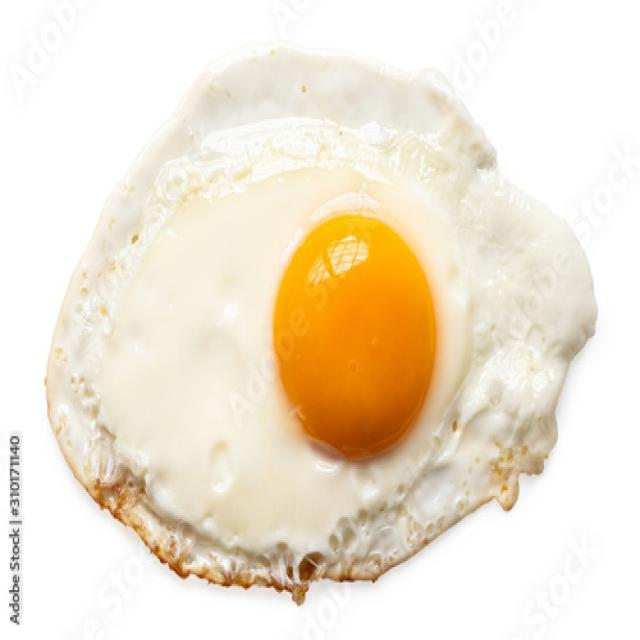Egg: (46, 47, 595, 602)
